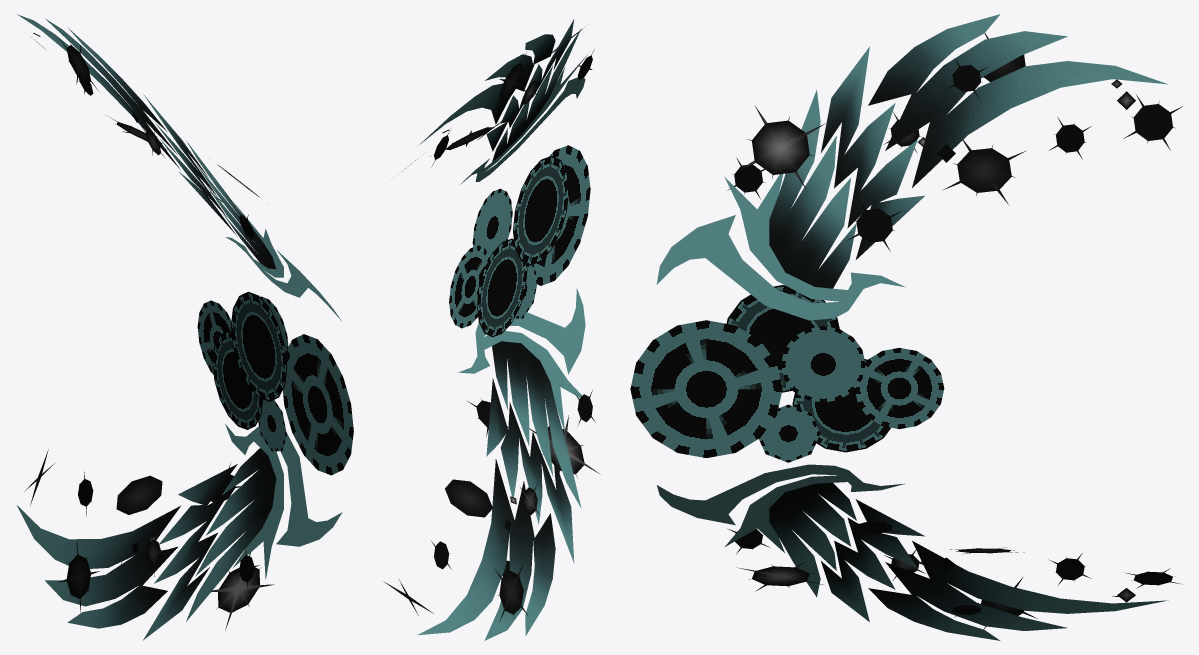
The model's file is acce703.obj.
3 views of the same model, side by side, from view 1: azimuth 30°, elevation 25°; view 2: azimuth 150°, elevation 25°; view 3: azimuth 270°, elevation 25° (orthographic). The views are drawn at different scales.
Parts seen in each view (by area): view 1: acce703; view 2: acce703; view 3: acce703.
Part boxes in pixels (x1,y1,x2,y2): acce703: [17, 14, 353, 640]; acce703: [383, 19, 599, 640]; acce703: [630, 14, 1182, 640].
Bounding box in the file's own units: 0.5166 × 2.32 × 1.86.
1 material, 1 textured.
